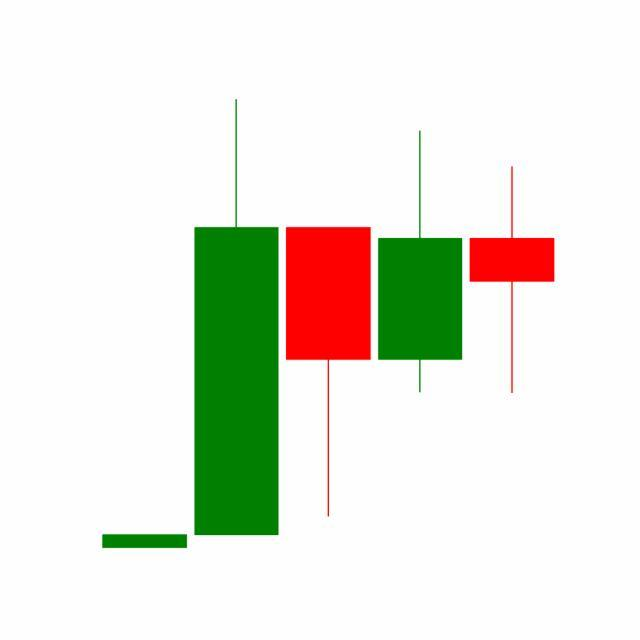Spinning Top: (466, 163, 559, 396)
